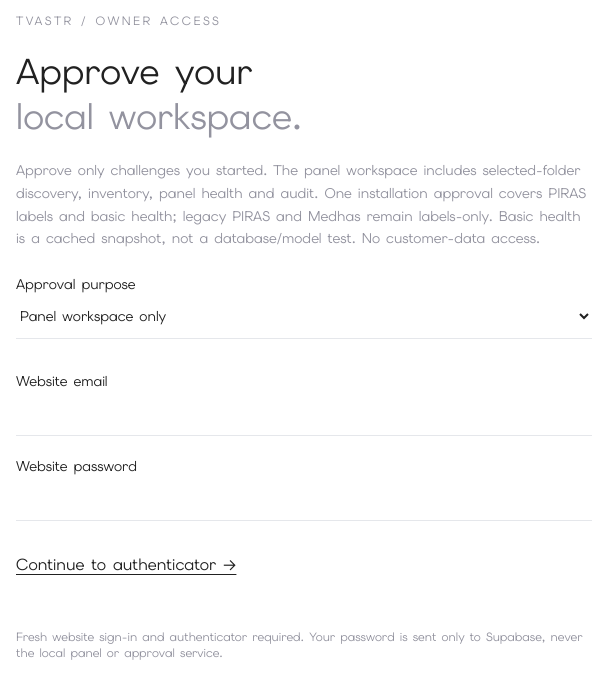
Test: isolated owner approval › refuses a password-only account without a verified authenticator
In the field labelled "Website email": (304, 414) [16, 391, 592, 436], type "owner@example.invalid"
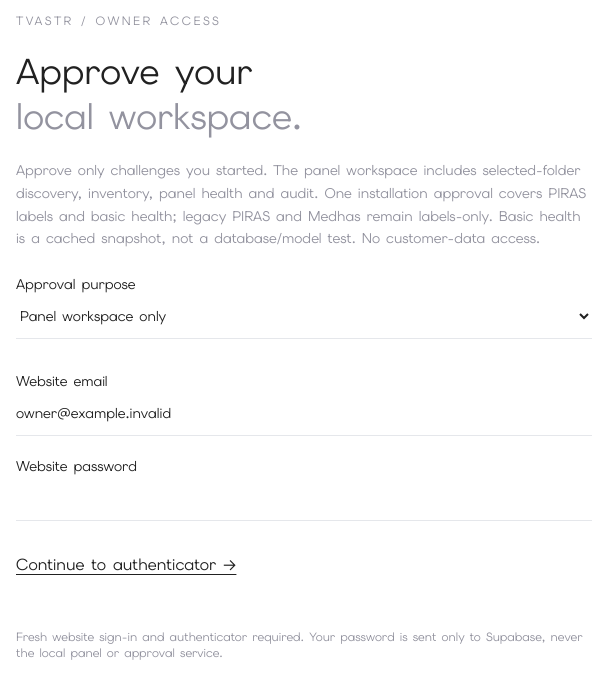
In the password field labelled "Website password": (304, 498) [16, 476, 592, 521], type "synthetic-password-not-real"
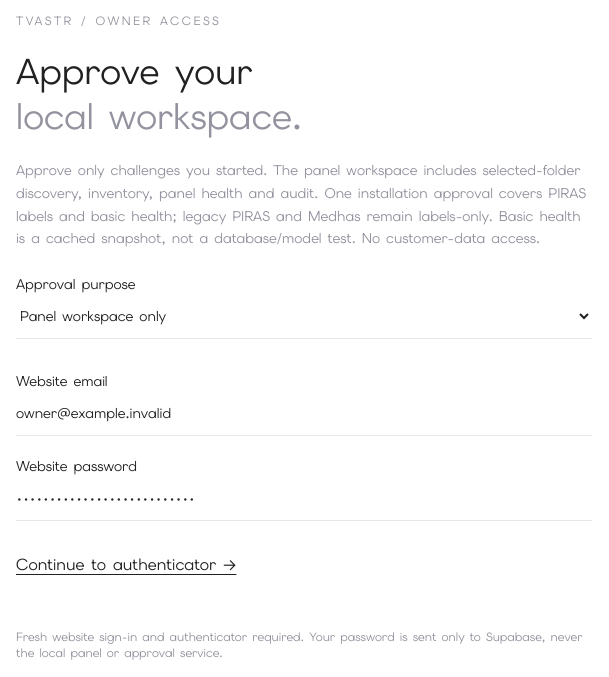
Click the button "Continue to authenticator →": (126, 565) [16, 541, 236, 589]
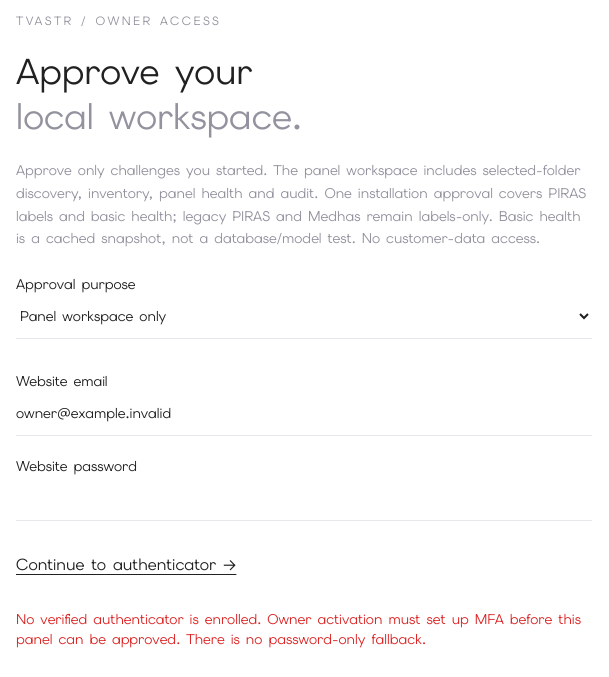
Result: the message is shown at [16, 609, 592, 649]
Result: the message shows "No verified authenticator" at [16, 610, 581, 648]
Result: the password field labelled "Website password" is empty at [16, 476, 592, 521]
